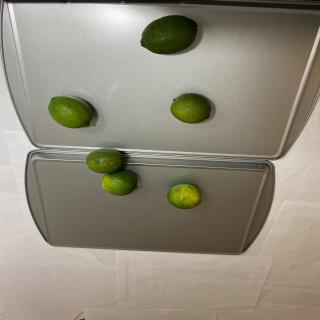Apple: (170, 93, 211, 124)
Lemon: (140, 15, 198, 54), (48, 95, 92, 129), (101, 170, 138, 196), (86, 148, 123, 174), (167, 183, 202, 210)
